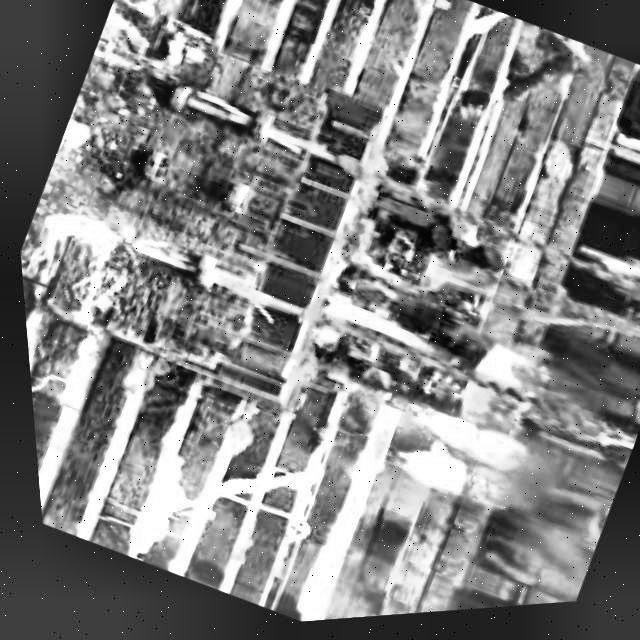Fire: (291, 202, 593, 448)
